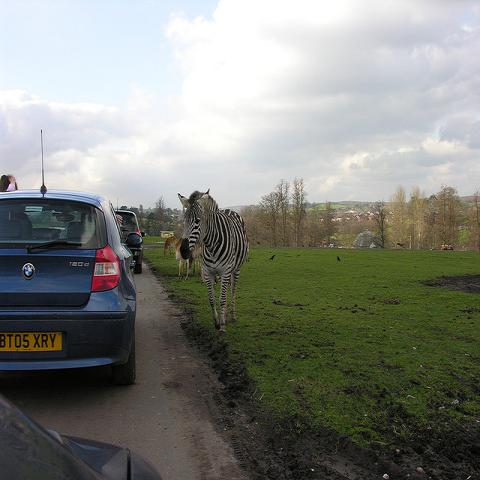car: (0, 128, 146, 384), (2, 395, 162, 479), (114, 209, 146, 274)
